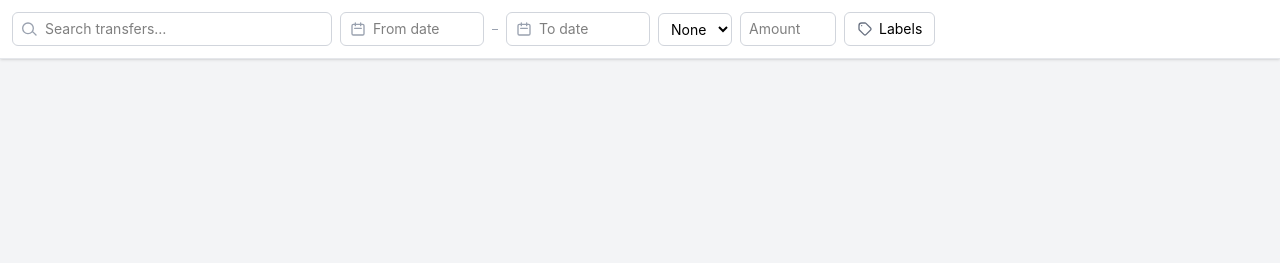
Test: ActionBar › opens label dropdown on click and shows label options
The width and height of the screenshot is (1280, 263).
Click the button "Labels".
click(890, 29)  # box [844,12,935,46]
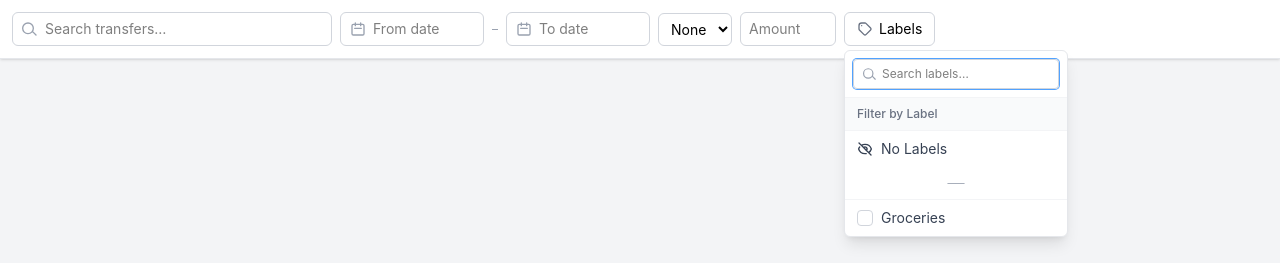
Check: the option "Groceries" is shown, box [845,200,1067,236]
